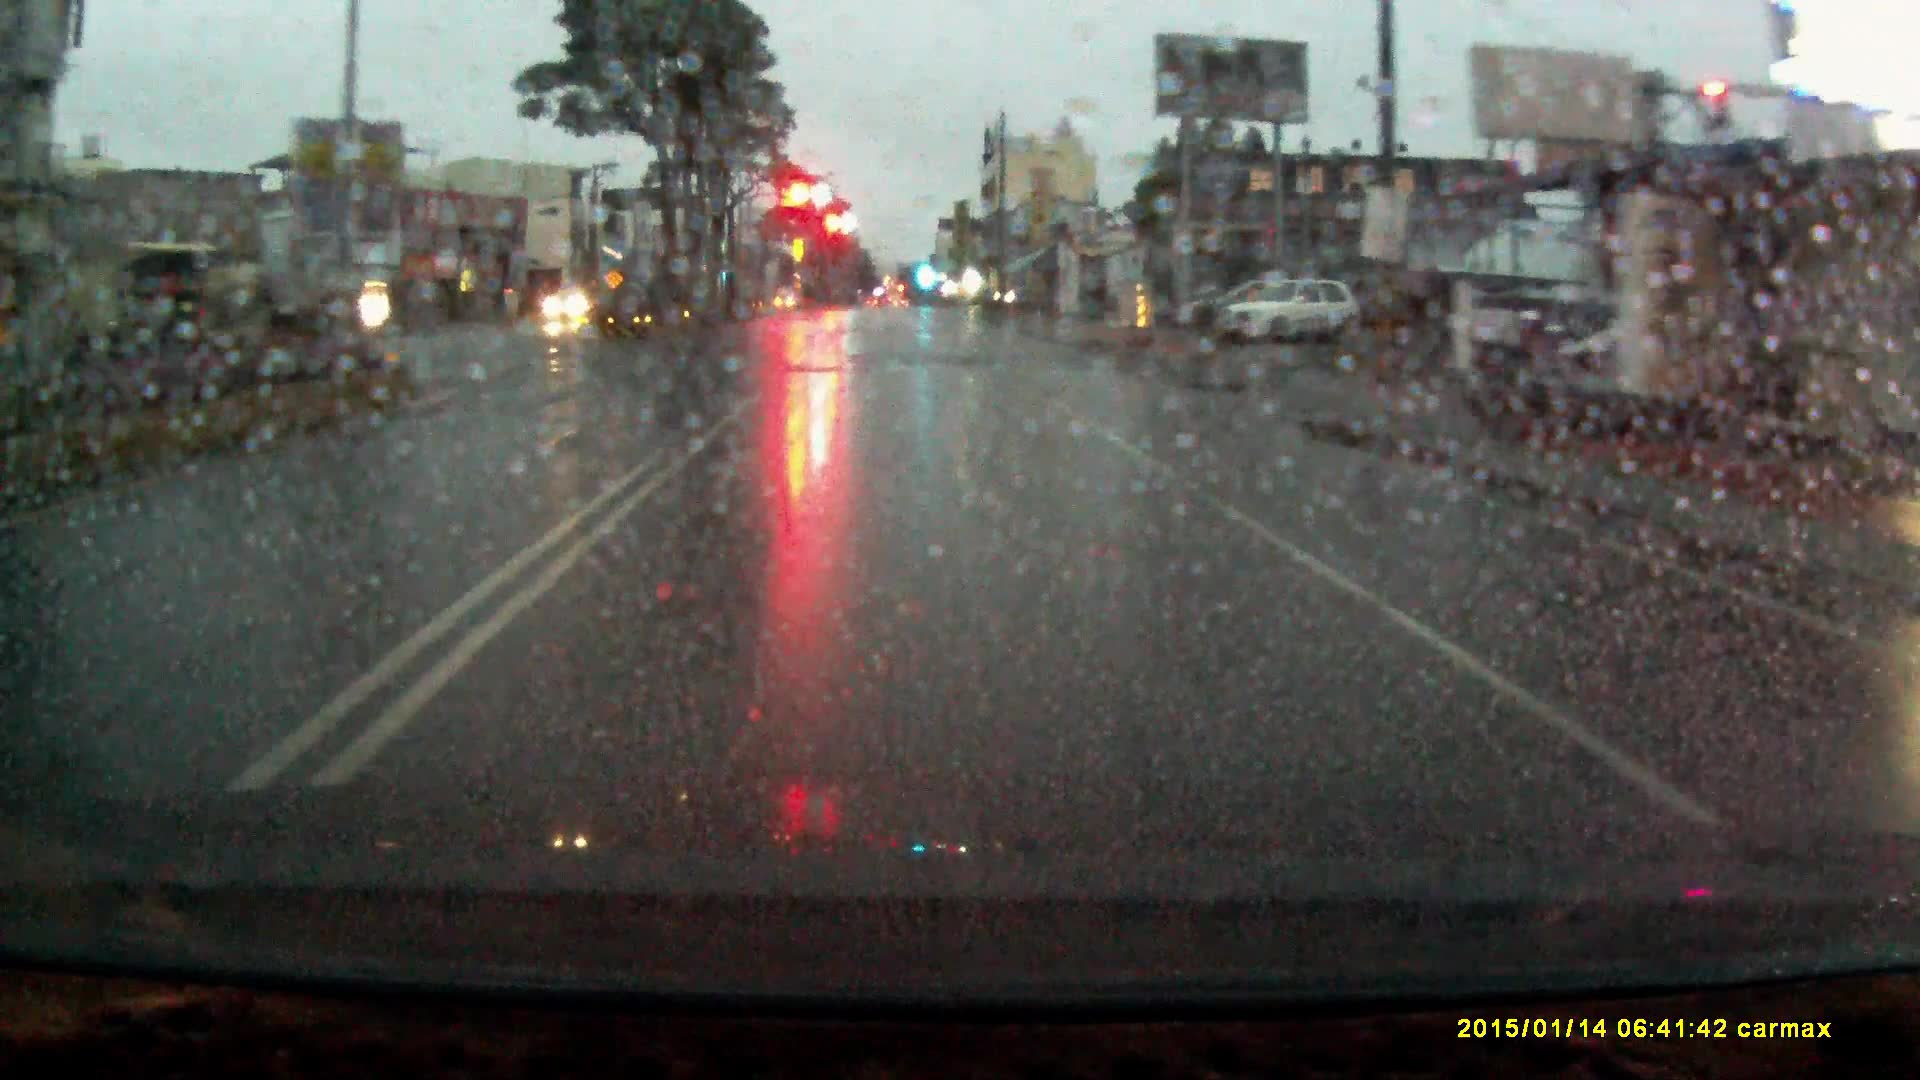vehicle: (1216, 276, 1369, 347), (1189, 285, 1302, 349), (547, 290, 601, 328)
